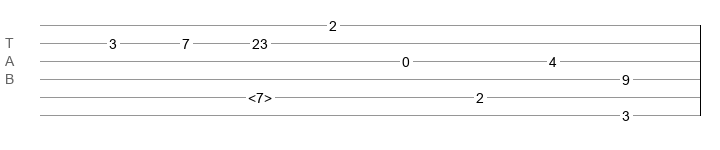0: (402, 54, 410, 64)
2: (329, 18, 337, 28), (476, 90, 484, 100)
23: (252, 36, 268, 46)
3: (109, 36, 117, 46), (622, 108, 630, 118)
4: (549, 54, 557, 64)
7: (182, 36, 190, 46)
9: (622, 72, 630, 82)
harmonic: (248, 90, 272, 100)
